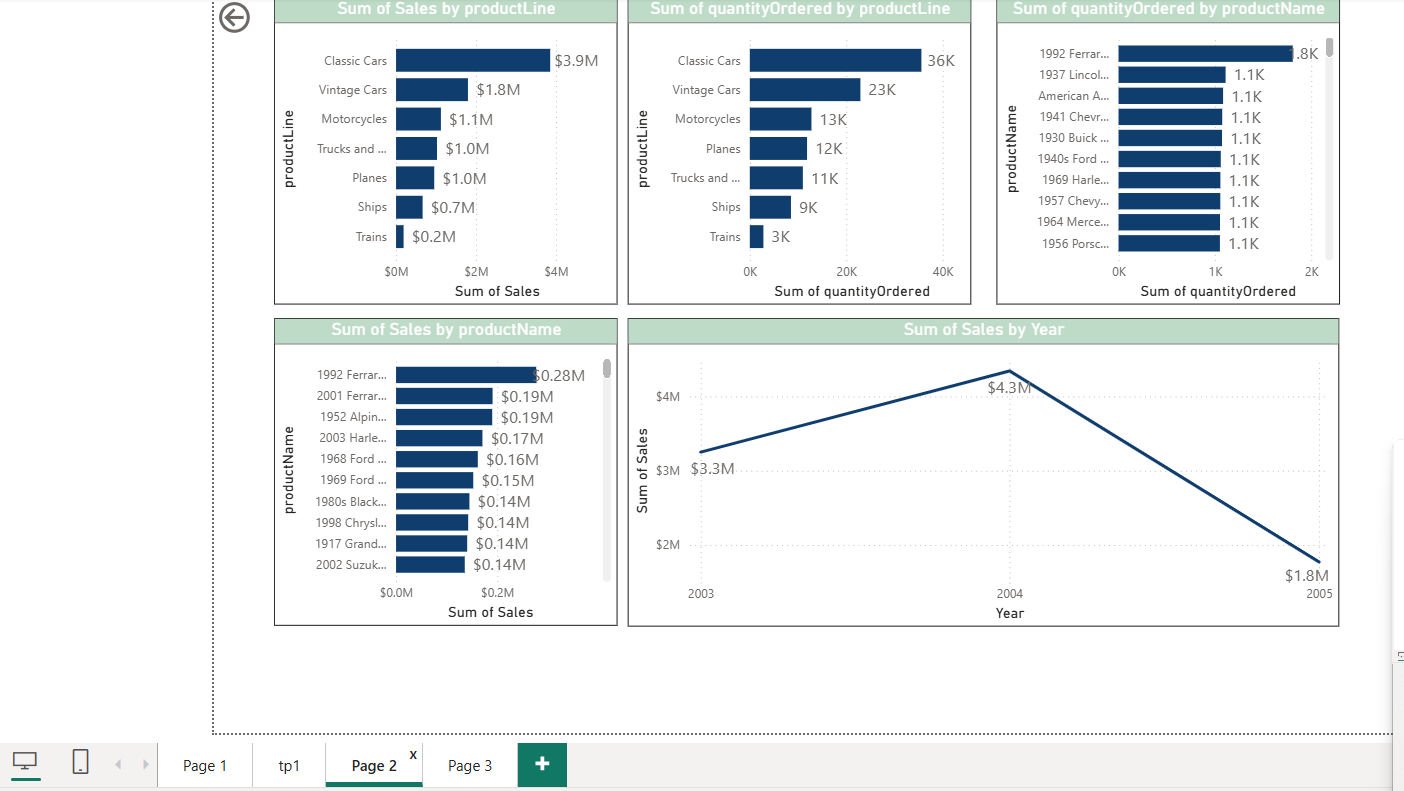

This screenshot's page, from the dashboard's own definition file:
{"tool":"powerbi","page":{"name":"Page 2","canvas":[1280,720],"ordinal":2},"visuals":[{"type":"actionButton","box":[0,0,100,40],"z":0},{"type":"barChart","fields":{"Category":["productlines.productLine"],"Y":["Sum(order details.Sales)"]},"box":[59,0,336.2,300.5],"z":1000},{"type":"barChart","fields":{"Category":["productlines.productLine"],"Y":["Sum(order details.quantityOrdered)"]},"box":[404.8,0,336.2,300.5],"z":2000},{"type":"barChart","fields":{"Category":["products.productName"],"Y":["Sum(order details.Sales)"]},"box":[59,314.2,336.2,300.5],"z":3000},{"type":"barChart","fields":{"Y":["Sum(order details.quantityOrdered)"],"Category":["products.productName"]},"box":[765.7,0,336.2,300.5],"z":4000},{"type":"lineChart","fields":{"Category":["orders.orderDate.Variation.Date Hierarchy.Year","orders.orderDate.Variation.Date Hierarchy.Quarter","orders.orderDate.Variation.Date Hierarchy.Month","orders.orderDate.Variation.Date Hierarchy.Day"],"Y":["Sum(order details.Sales)"]},"box":[404.8,314.2,695.7,301.9],"z":5000}]}

Visuals, with their boxes on the page's 1280x720 design canvas (x1, y1, x2, y2). These are canvas units, not pixel positions in the 1404x791 screenshot, which may show the page scaled, cropped or inside an application window:
actionButton: x1=0 y1=0 x2=100 y2=40
barChart - productlines.productLine x Sum(order details.Sales): x1=59 y1=0 x2=395 y2=300
barChart - productlines.productLine x Sum(order details.quantityOrdered): x1=405 y1=0 x2=741 y2=300
barChart - products.productName x Sum(order details.Sales): x1=59 y1=314 x2=395 y2=615
barChart - Sum(order details.quantityOrdered) x products.productName: x1=766 y1=0 x2=1102 y2=300
lineChart - orders.orderDate.Variation.Date Hierarchy.Year x orders.orderDate.Variation.Date Hierarchy.Quarter: x1=405 y1=314 x2=1100 y2=616
